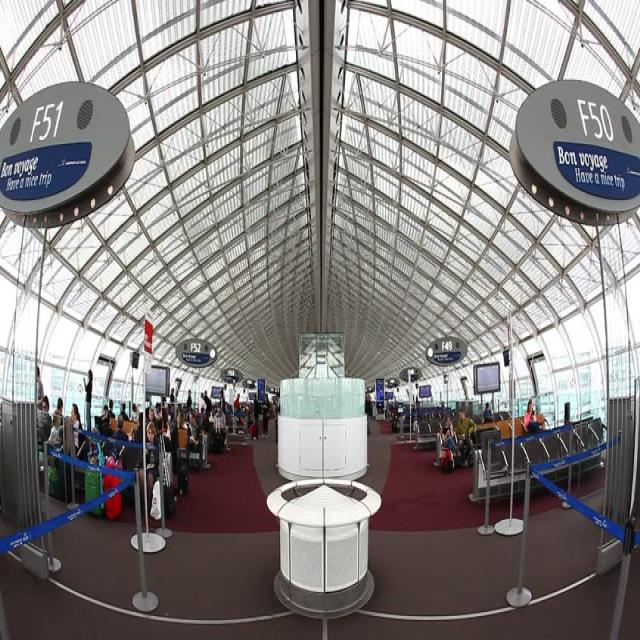body: (169, 386, 254, 454), (102, 393, 170, 471), (138, 420, 160, 520), (384, 396, 426, 440), (179, 406, 206, 474), (454, 406, 476, 470), (36, 394, 53, 469), (86, 423, 102, 501), (66, 401, 84, 464), (36, 365, 46, 456), (439, 412, 460, 455), (82, 368, 94, 439), (359, 387, 375, 436), (45, 408, 64, 445), (259, 392, 271, 439), (523, 397, 537, 431), (252, 392, 261, 441), (53, 396, 66, 428), (482, 401, 494, 424)
